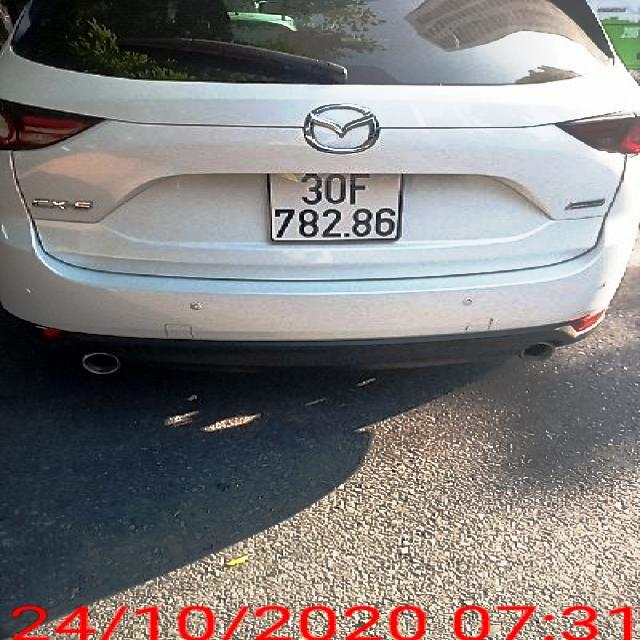license_plate: (269, 171, 404, 247)
